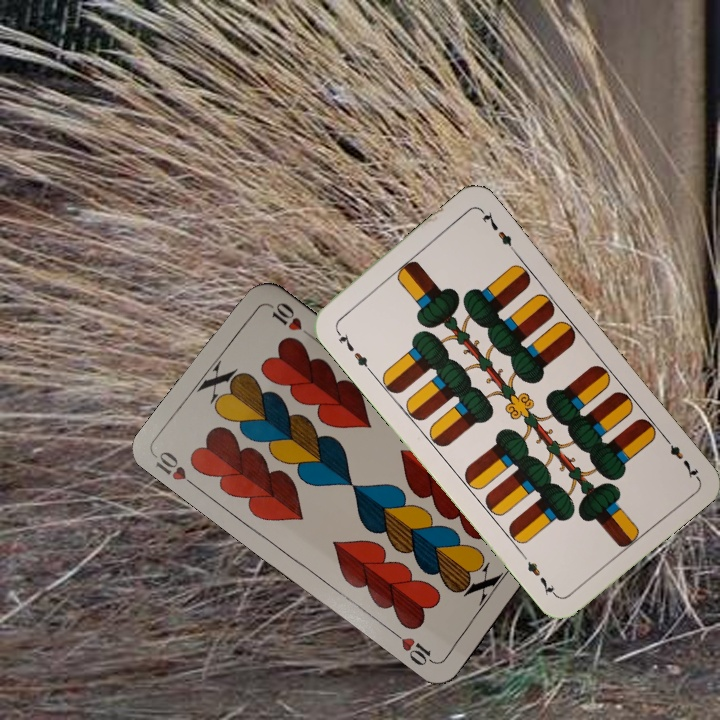E7: (658, 431, 701, 481), (331, 325, 374, 374)
H10: (151, 447, 201, 492)
